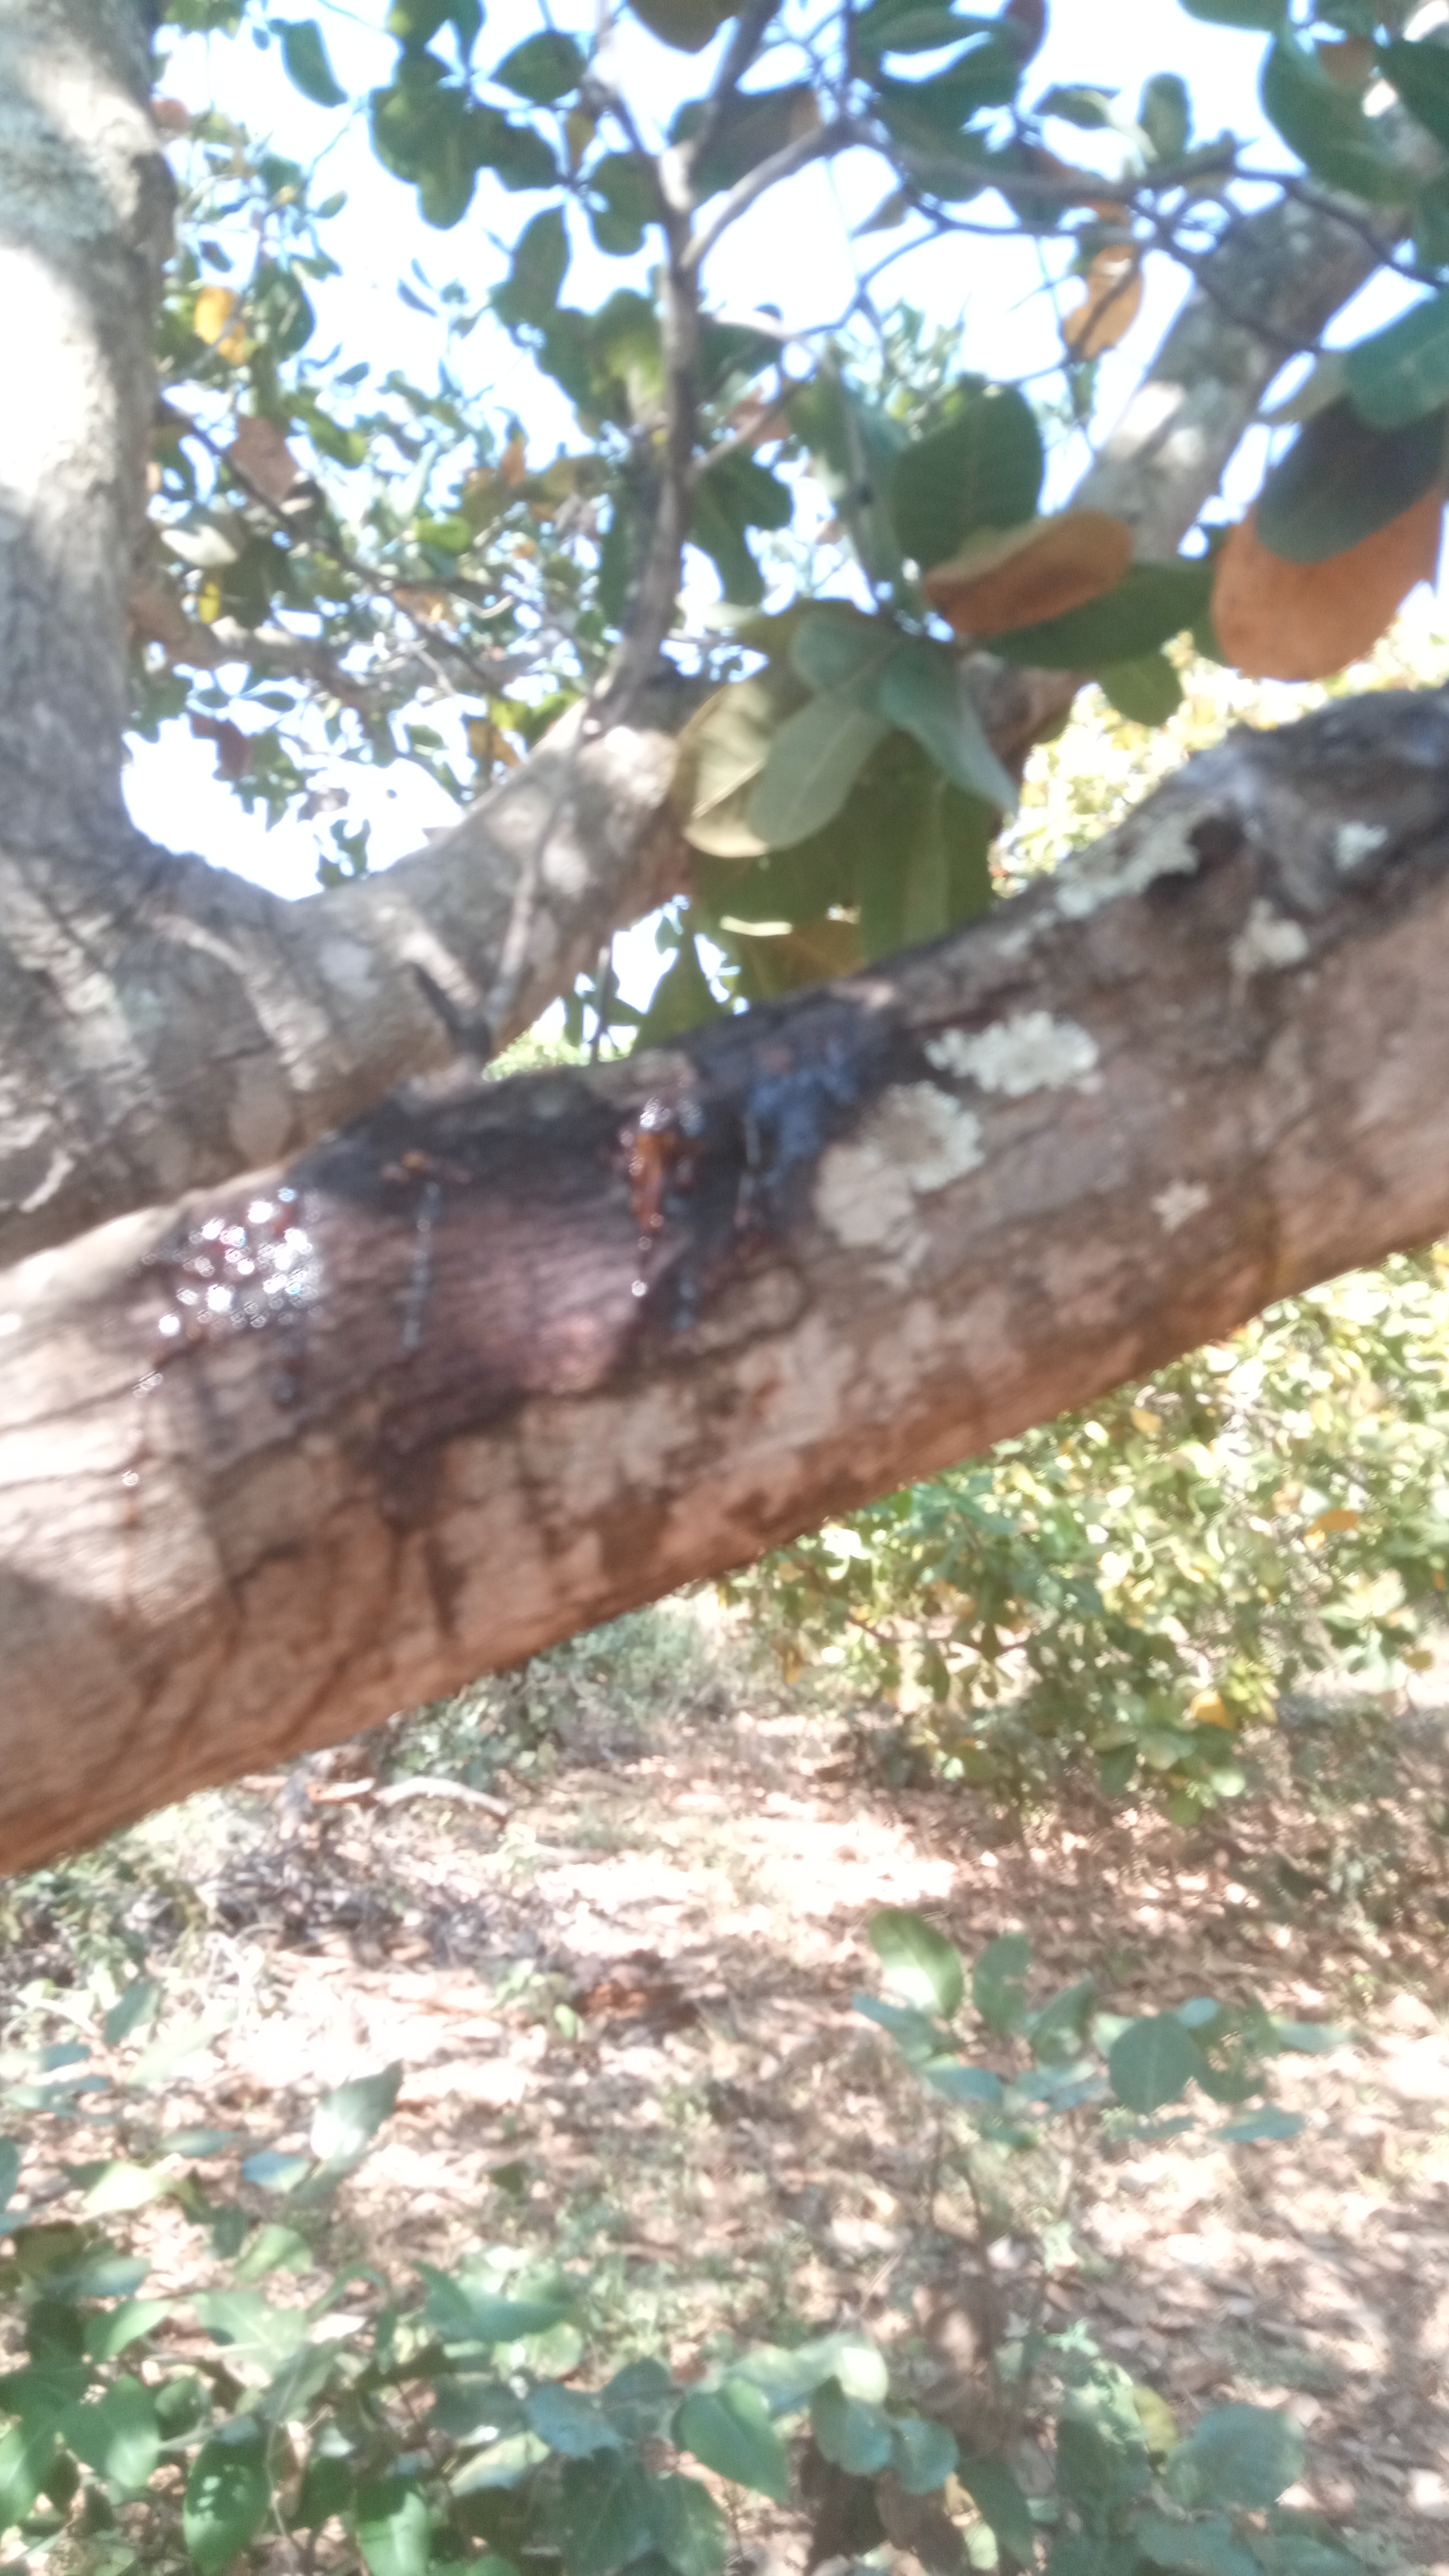Gommose: (157, 968, 1031, 1435)
